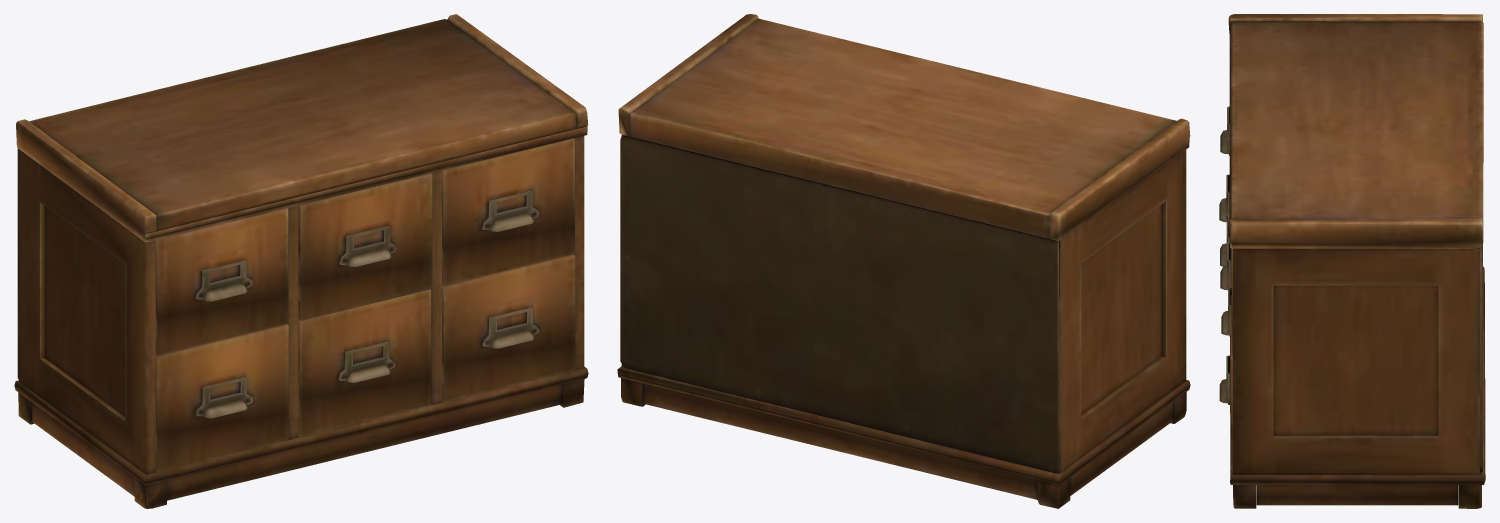
The model's file is vintage_wooden_drawer_01.glb.
The picture shows the model from 3 angles, left to right: view 1: azimuth 30°, elevation 25°; view 2: azimuth 150°, elevation 25°; view 3: azimuth 270°, elevation 25°; orthographic projection. The views are drawn at different scales.
Parts seen in each view (by area): view 1: vintage_wooden_drawer_01_body; view 2: vintage_wooden_drawer_01_body; view 3: vintage_wooden_drawer_01_body.
Part boxes in pixels (x1,y1,x2,y2): vintage_wooden_drawer_01_body: (14,14,588,508); vintage_wooden_drawer_01_body: (617,14,1190,508); vintage_wooden_drawer_01_body: (1219,14,1485,508).
Size of the model in its own units: 0.8554 by 0.5445 by 0.4574.
1 material, 1 textured.
